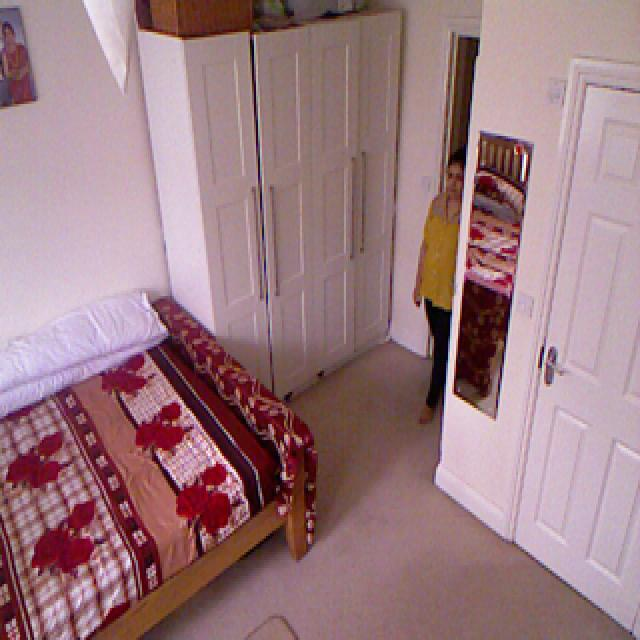standing: (407, 149, 470, 426)
